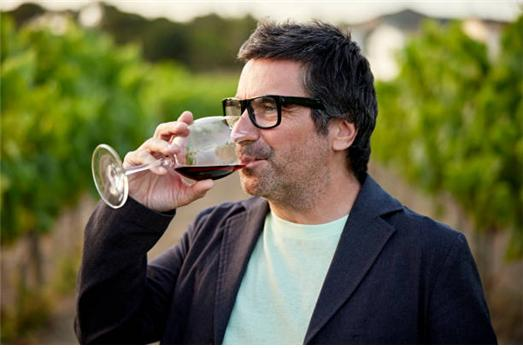alcohol: (89, 116, 250, 208)
